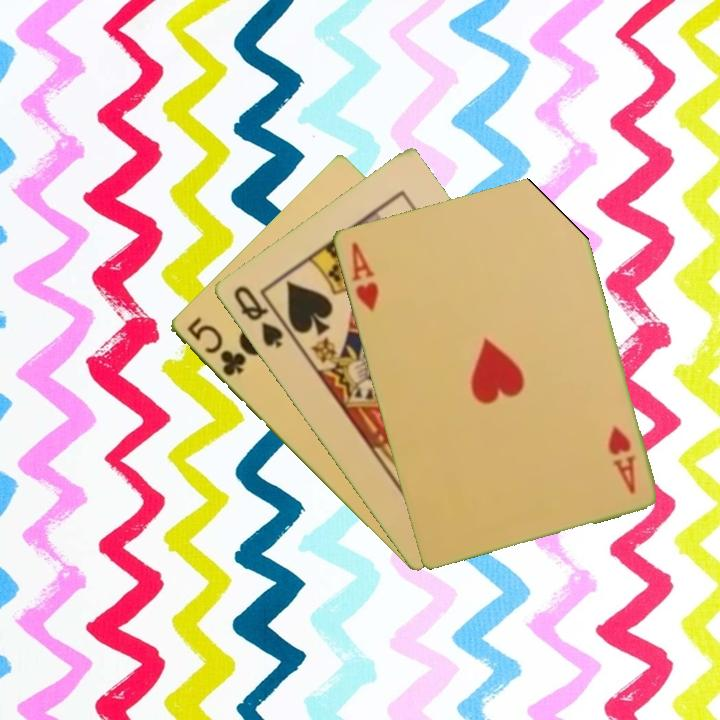5c: (183, 313, 249, 379)
Ah: (347, 238, 381, 314), (604, 421, 638, 497)
Qs: (229, 282, 286, 352)
